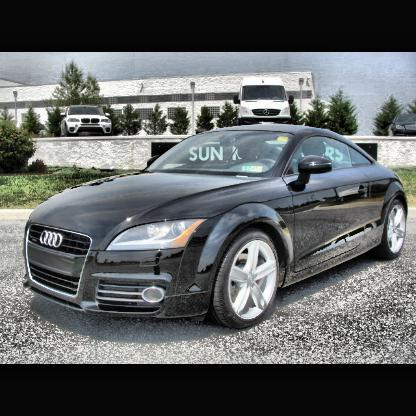Audi TTS Coupe 2012: (22, 125, 410, 333)
